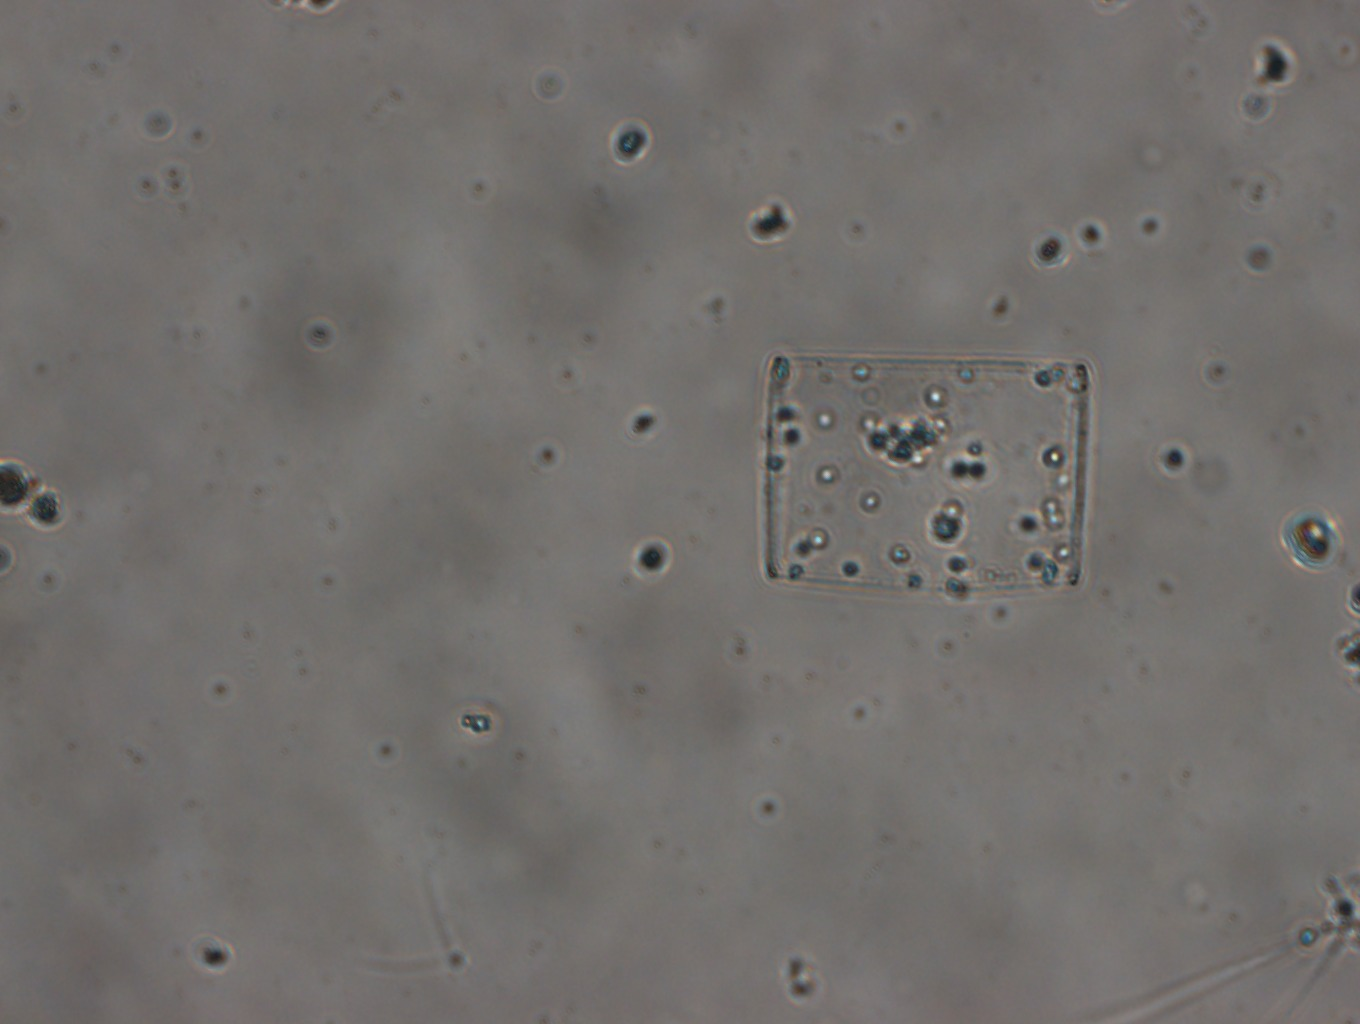guinardia flaccida: (758, 353, 1096, 591)
